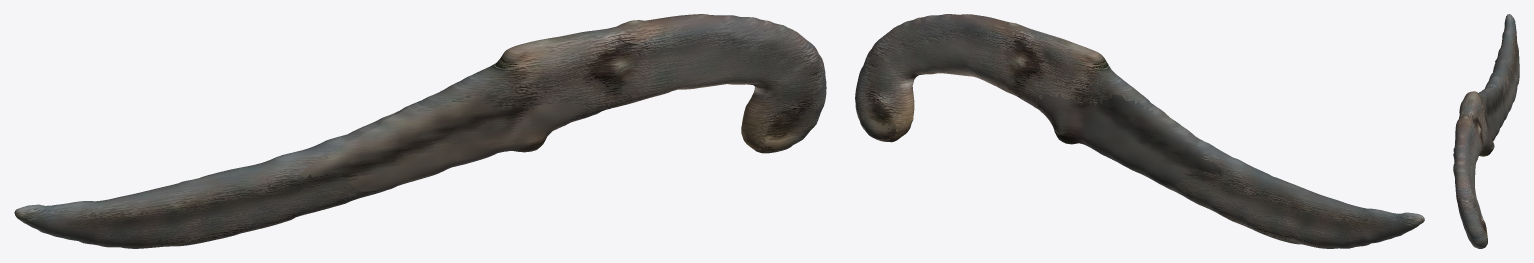
The model's file is kfl-2221.glb.
The picture shows the model from 3 angles, left to right: view 1: azimuth 30°, elevation 25°; view 2: azimuth 150°, elevation 25°; view 3: azimuth 270°, elevation 25°; orthographic projection. The views are drawn at different scales.
Parts seen in each view (by area): view 1: geometry_0; view 2: geometry_0; view 3: geometry_0.
Part boxes in pixels (box(x1,y1,x2,y2)): geometry_0: box(14, 14, 826, 248); geometry_0: box(855, 14, 1424, 248); geometry_0: box(1453, 14, 1519, 248).
Bounding box in the file's own units: 0.9863 × 0.2172 × 0.1434.
1 material, 1 textured.
